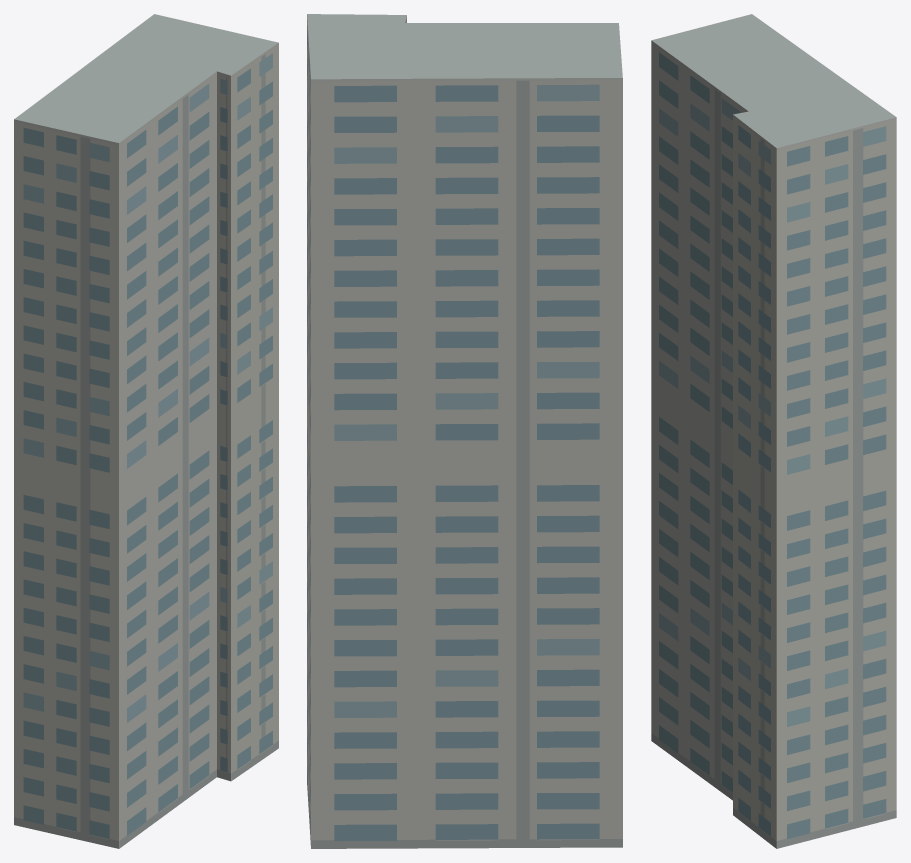
The model's file is survey-upis-32512443.glb.
3 renders of one model, left to right at view 1: azimuth 30°, elevation 25°; view 2: azimuth 150°, elevation 25°; view 3: azimuth 270°, elevation 25°, orthographic. The views are drawn at different scales.
Visible parts, largest first — view 1: survey-upis-32512443.tmp; view 2: survey-upis-32512443.tmp; view 3: survey-upis-32512443.tmp.
Boxes of the visible parts, left/top/right/bottom form: survey-upis-32512443.tmp: left=14, top=14, right=278, bottom=848; survey-upis-32512443.tmp: left=307, top=14, right=622, bottom=848; survey-upis-32512443.tmp: left=651, top=14, right=896, bottom=848.
Bounding box in the file's own units: 31.34 × 76.25 × 24.2.
